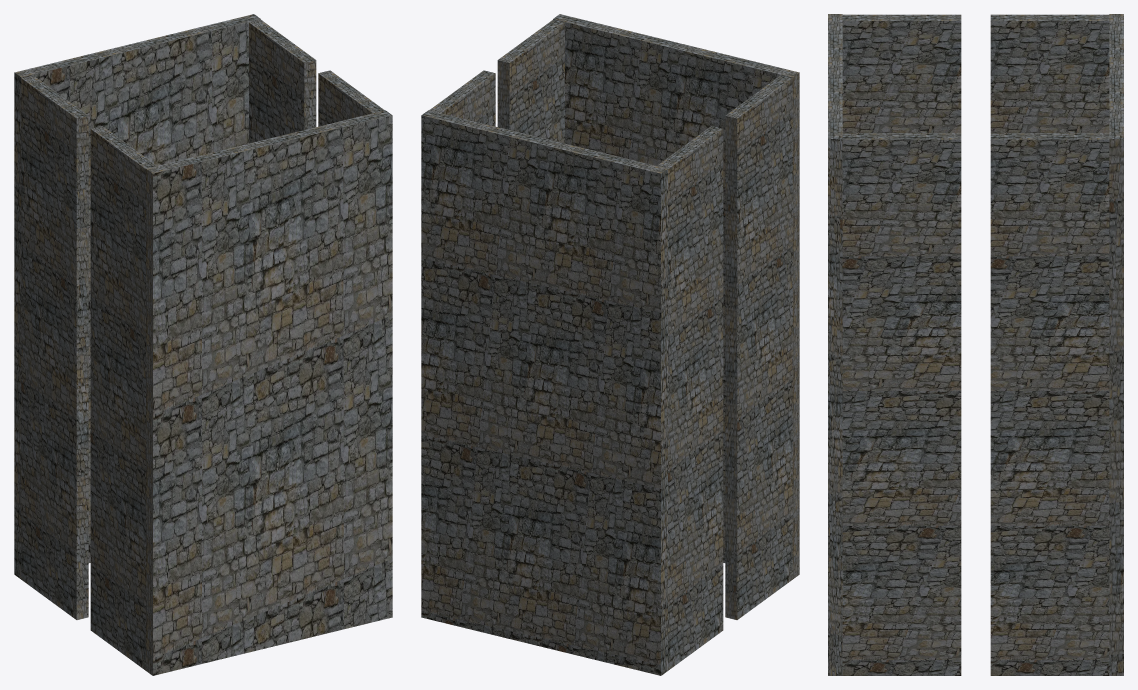
File: construction.glb
3 views of the same model, side by side, from view 1: azimuth 30°, elevation 25°; view 2: azimuth 150°, elevation 25°; view 3: azimuth 270°, elevation 25° (orthographic). The views are drawn at different scales.
Visible parts, largest first — view 1: Cube.002; view 2: Cube.002; view 3: Cube.002.
Part boxes in pixels (x1,y1,x2,y2): Cube.002: [14, 14, 392, 675]; Cube.002: [421, 14, 799, 675]; Cube.002: [828, 14, 1123, 675].
Bounding box in the file's own units: 0.9998 × 2 × 1.
1 material, 1 textured.
